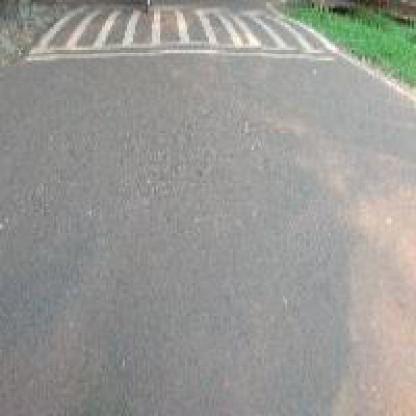Speed Bump: (31, 6, 331, 58)
